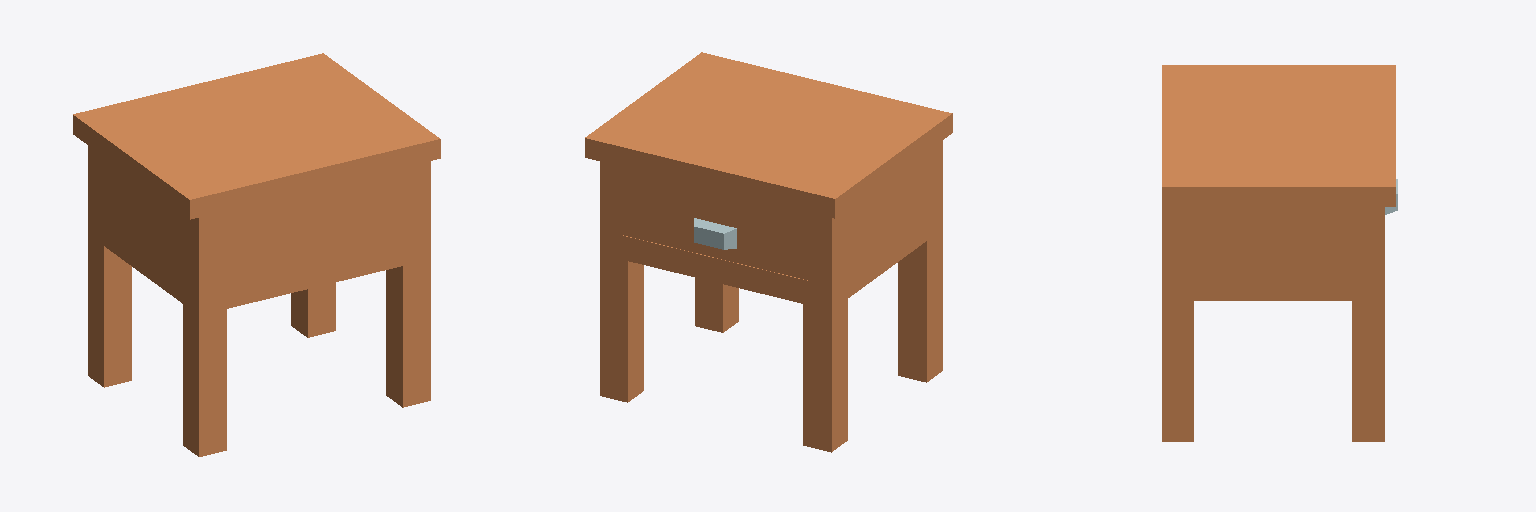
Rendered from cabinetBedDrawerTable.obj.
3 views of the same model, side by side, from view 1: azimuth 30°, elevation 25°; view 2: azimuth 150°, elevation 25°; view 3: azimuth 270°, elevation 25° (orthographic).
Parts seen in each view (by area): view 1: cabinetBedDrawerTable; view 2: cabinetBedDrawerTable, drawer; view 3: cabinetBedDrawerTable.
Part boxes in pixels (x1,y1,x2,y2): cabinetBedDrawerTable: (73, 53, 440, 456); cabinetBedDrawerTable: (585, 52, 952, 452); drawer: (623, 186, 807, 279); cabinetBedDrawerTable: (1162, 65, 1395, 441).
Size of the model in its own units: 0.266 by 0.2632 by 0.2173.